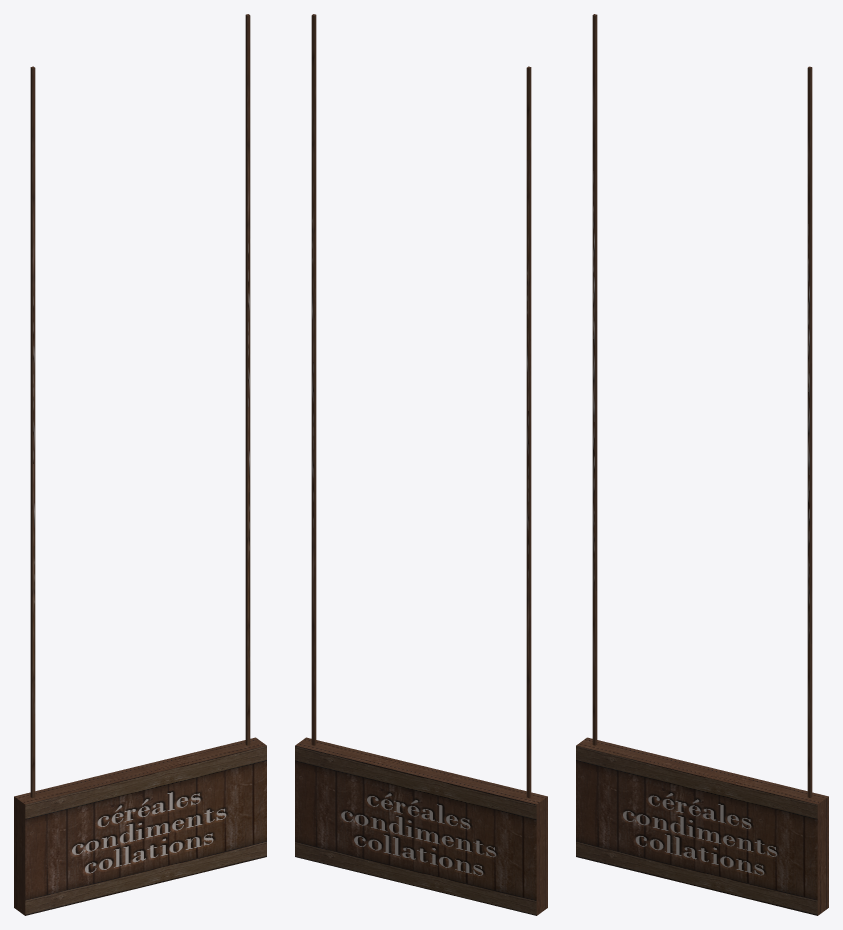
File: SM_Signs_02.FBX
3 views of the same model, side by side, from view 1: azimuth 30°, elevation 25°; view 2: azimuth 150°, elevation 25°; view 3: azimuth 330°, elevation 25° (orthographic).
Parts seen in each view (by area): view 1: SM_Signs_02; view 2: SM_Signs_02; view 3: SM_Signs_02.
Boxes of the visible parts, left/top/right/bottom form: SM_Signs_02: left=14, top=14, right=266, bottom=915; SM_Signs_02: left=295, top=14, right=547, bottom=915; SM_Signs_02: left=576, top=14, right=828, bottom=915.
Bounding box in the file's own units: 67.88 × 226 × 5.42.
